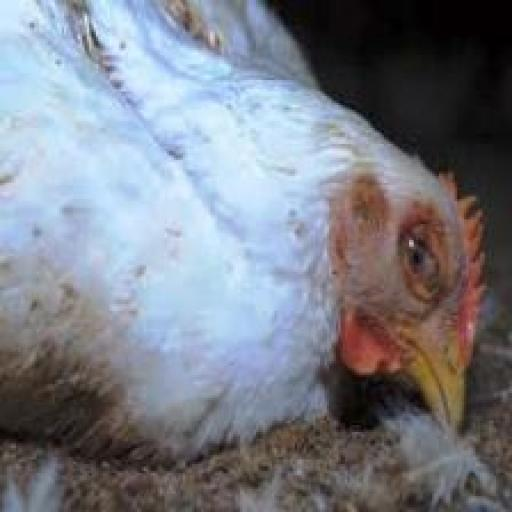disease: (376, 186, 474, 340)
